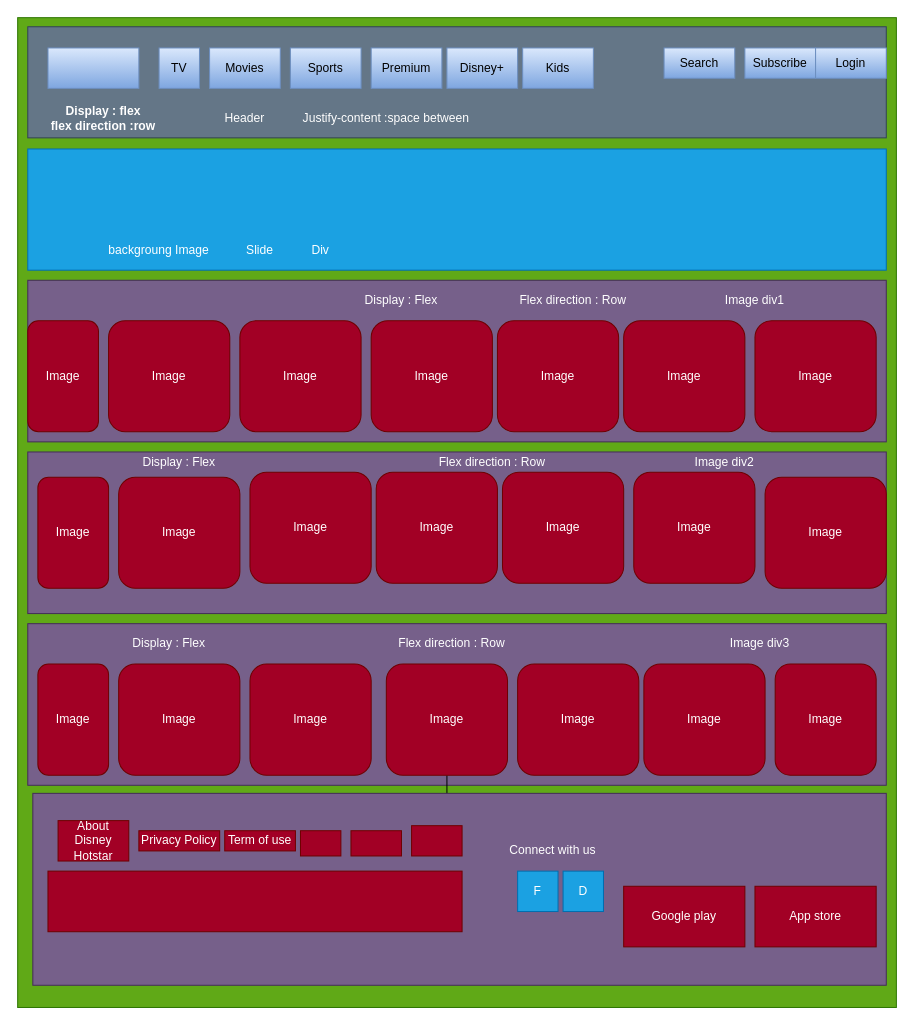
This 914x1025 diagram has some shape labels left out. Each missing label, with the centre of its shape:
"Carrer" belongs at (x=375, y=843).
"Disney+Hotstar" belongs at (x=93, y=67).
"FAQ" belongs at (x=320, y=843).
"Feedback" belongs at (x=436, y=840).
"TEXT" belongs at (x=254, y=901).
